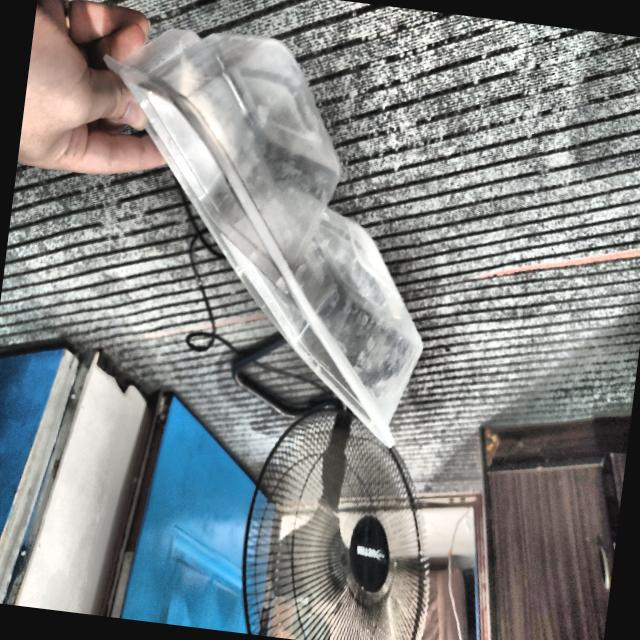plastic container: (105, 30, 422, 446)
